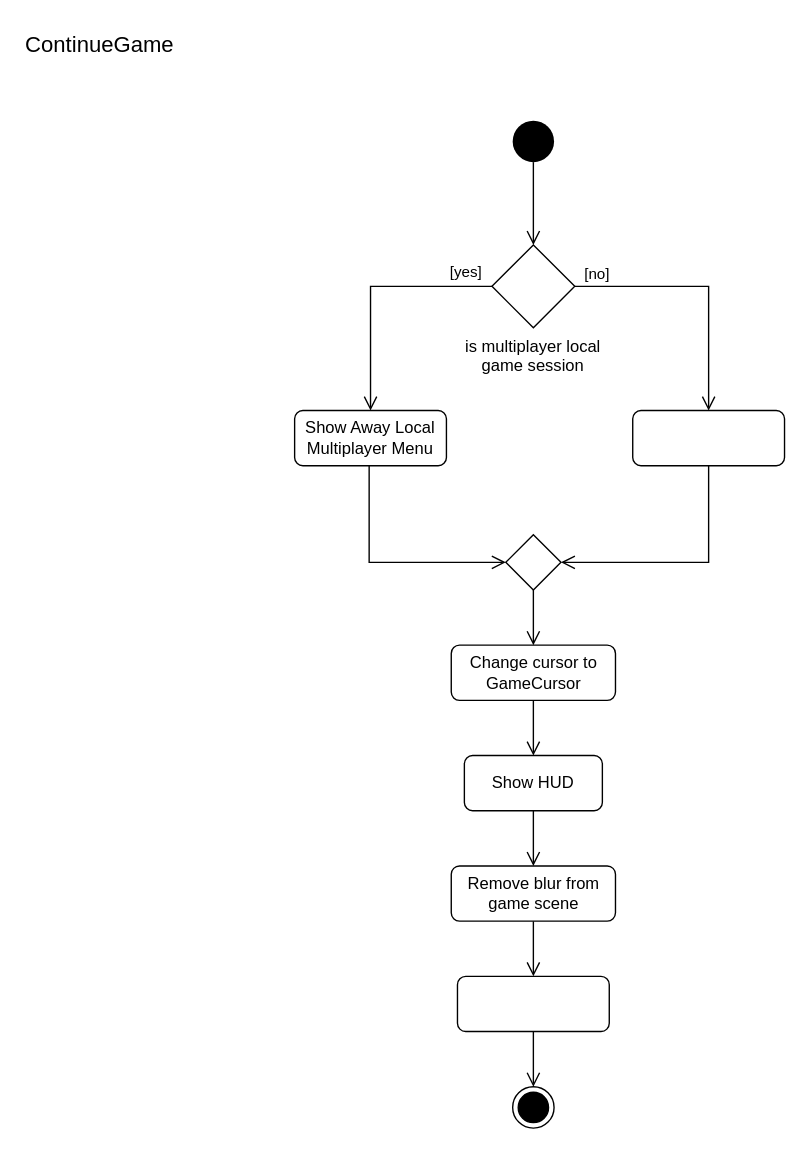
Image size: 809x1152. Some labels were removed from this diagram. Here are the shapes that lost their labels. From the top down, the centre of each, then its label:
the point at 708,437: Show Away Menu
the point at 532,1003: Enable Avatar Controller
